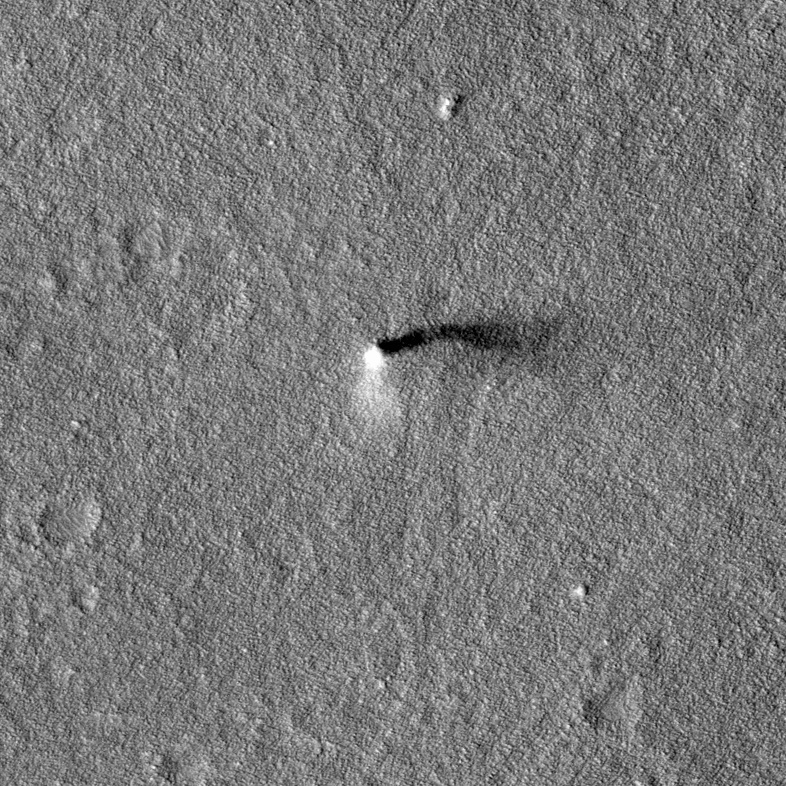dust_devil: (351, 315, 564, 423)
